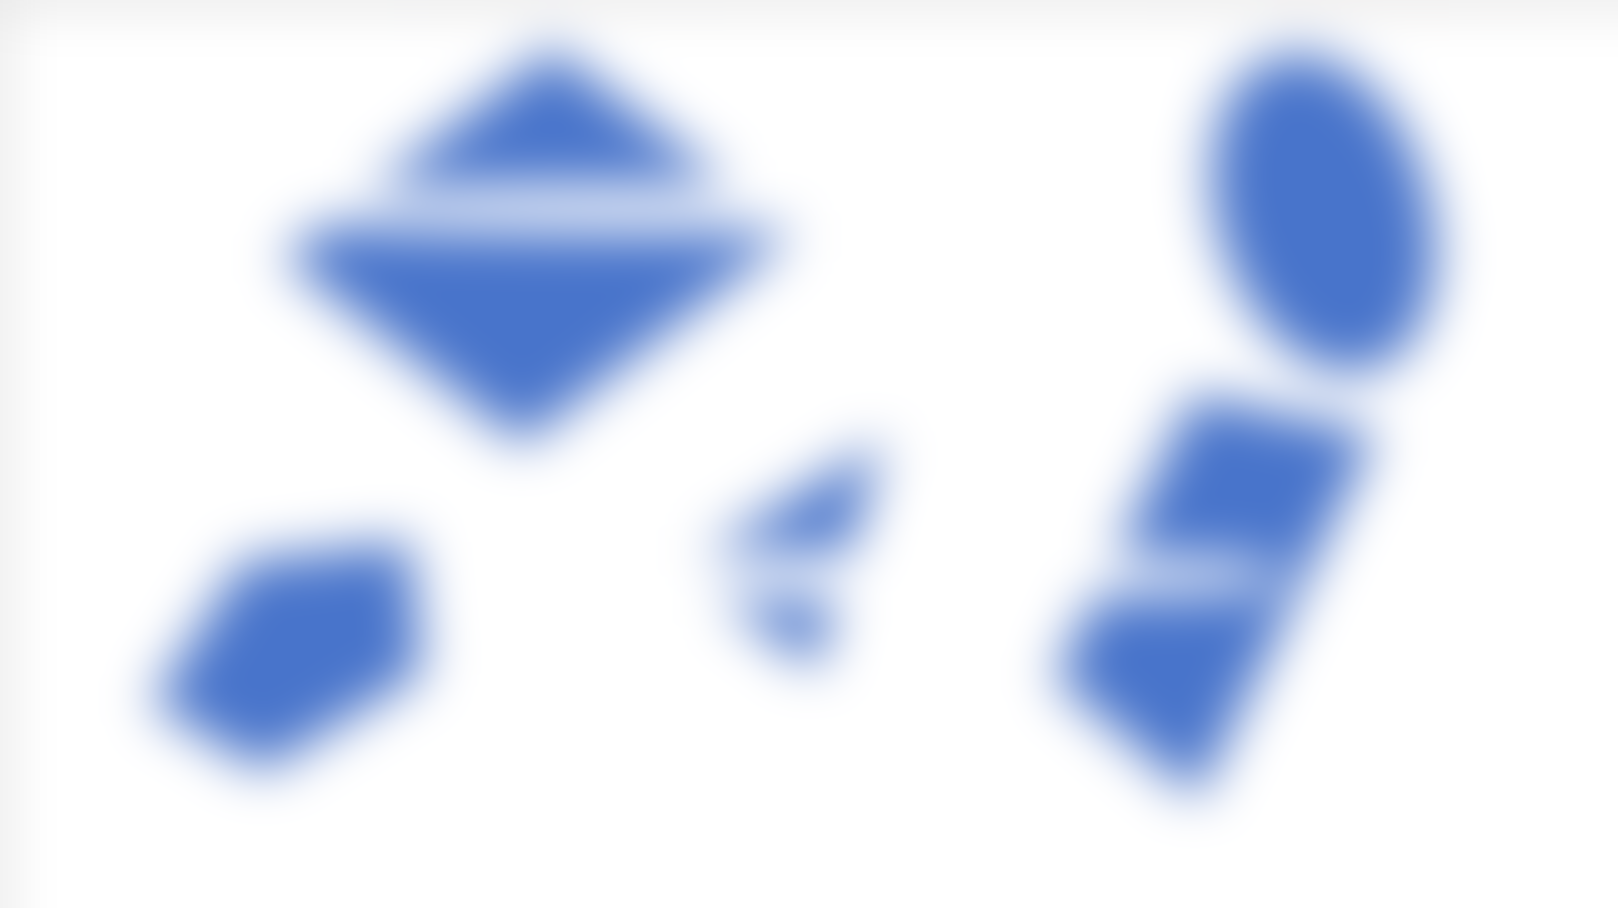circle: (1186, 44, 1494, 382)
parallelogram: (271, 41, 788, 438)
pentagon: (151, 522, 470, 777)
trapezium: (1030, 382, 1401, 795)
triangle: (690, 433, 943, 677)
